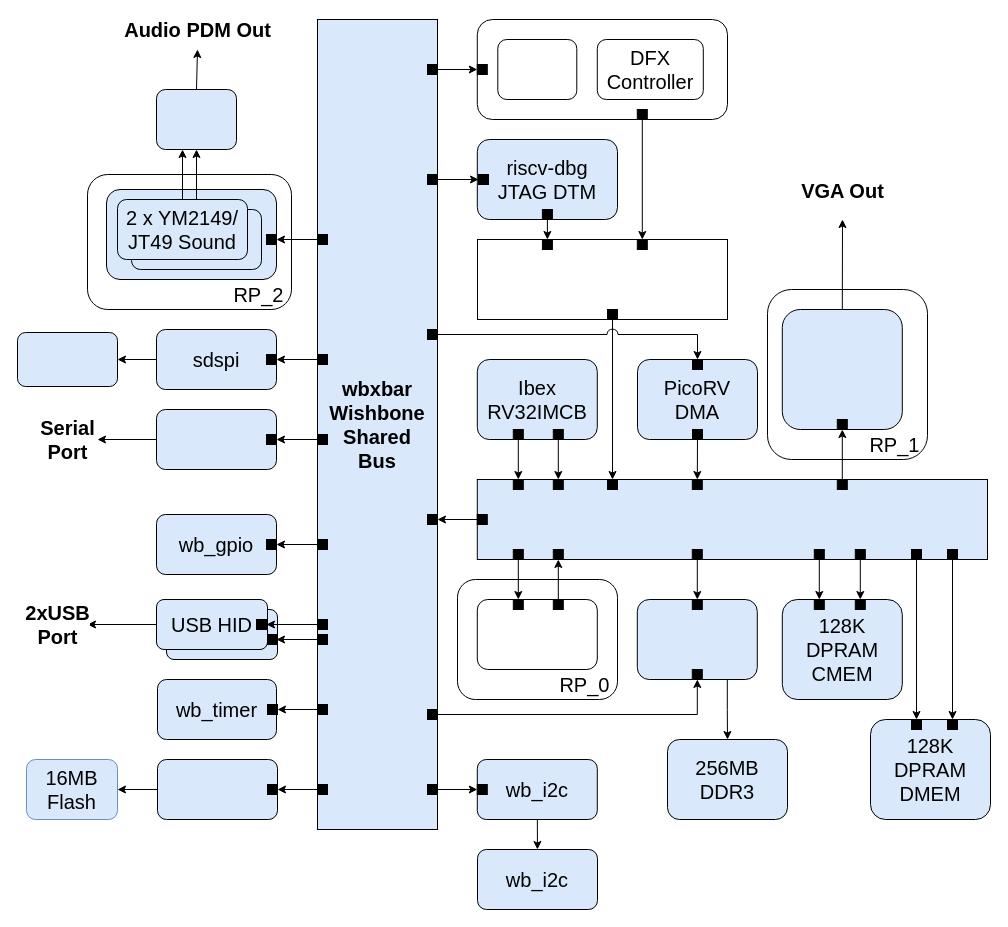
This 1008x927 diagram has some shape labels left out. The shapes that lost their labels are listed below. From the top down, each one's centre as x and y in pixels, then its label:
At (x=537, y=69): "ICAP".
At (x=196, y=119): "Audio DAC".
At (x=602, y=279): "Wishbone Arbiter".
At (x=67, y=359): "microSD".
At (x=841, y=369): "VERA Graphics 128KB VRAM".
At (x=216, y=439): "wbuart32".
At (x=732, y=519): "wbxbar Wishbone Crossbar".
At (x=536, y=634): "Black Box".
At (x=696, y=639): "LiteDRAM MEMC".
At (x=217, y=789): "spiflash".
